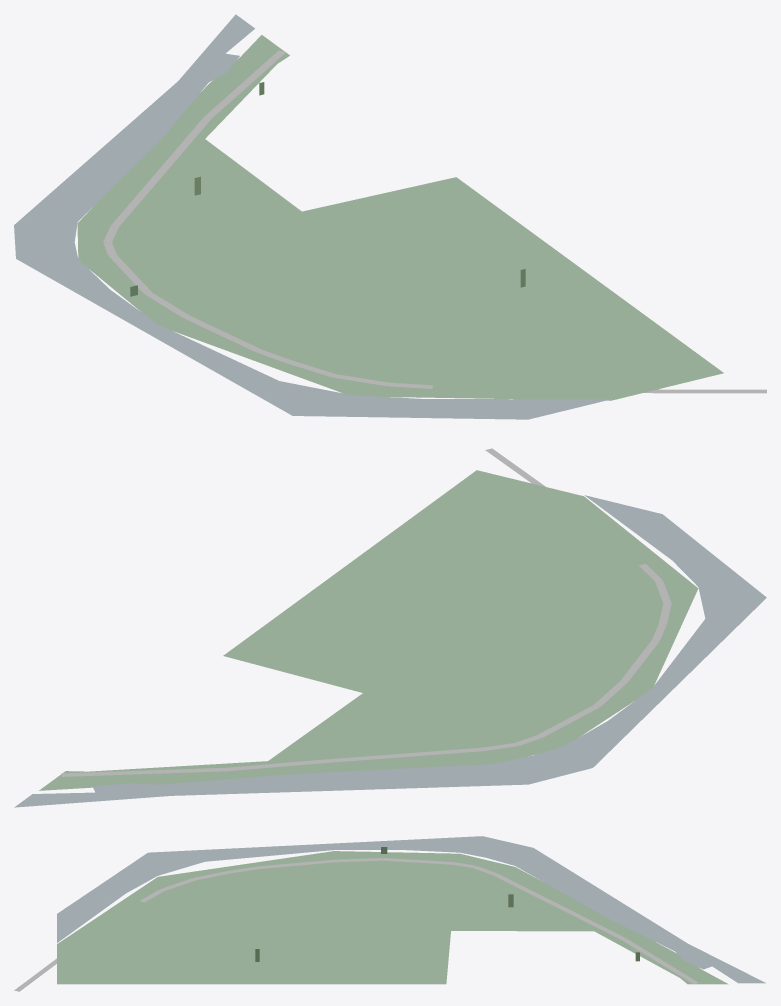
The picture shows the model from 3 angles, top to bottom: view 1: azimuth 30°, elevation 25°; view 2: azimuth 150°, elevation 25°; view 3: azimuth 270°, elevation 25°; orthographic projection. The views are drawn at different scales.
Size of the model in its own units: 172 by 8.08 by 356.
